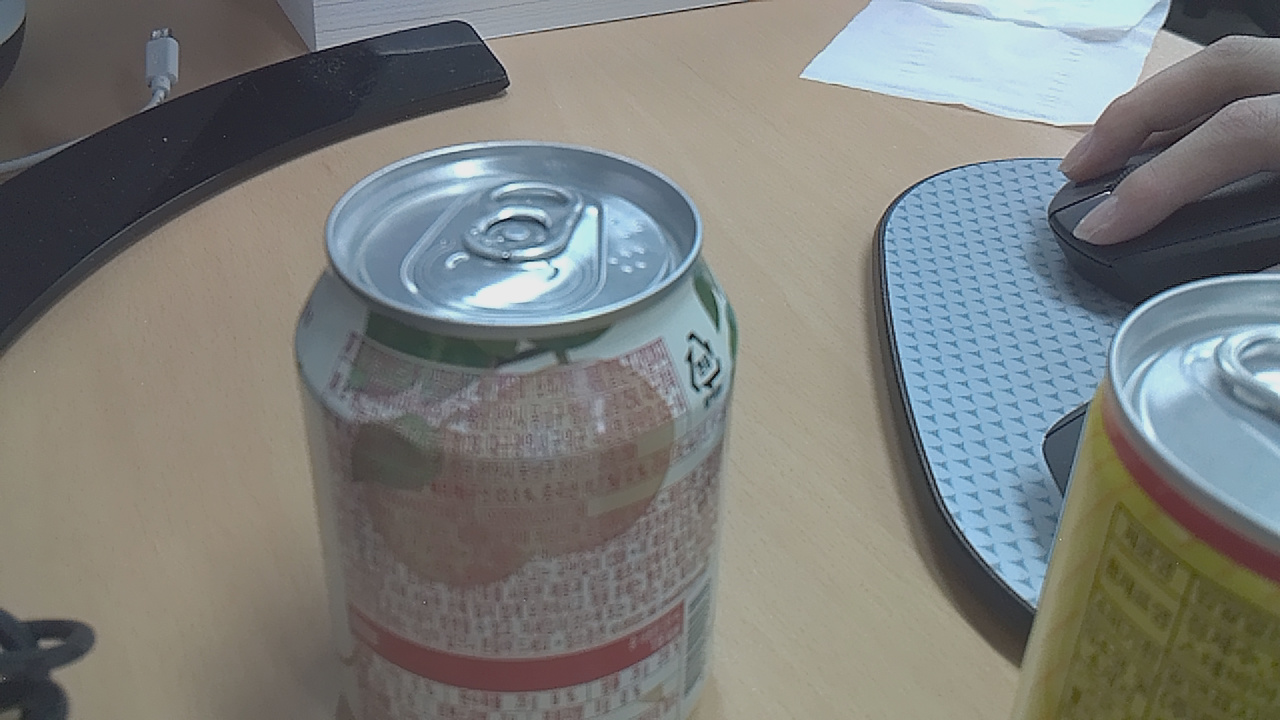IdH (pear juice): (283, 132, 751, 720)
